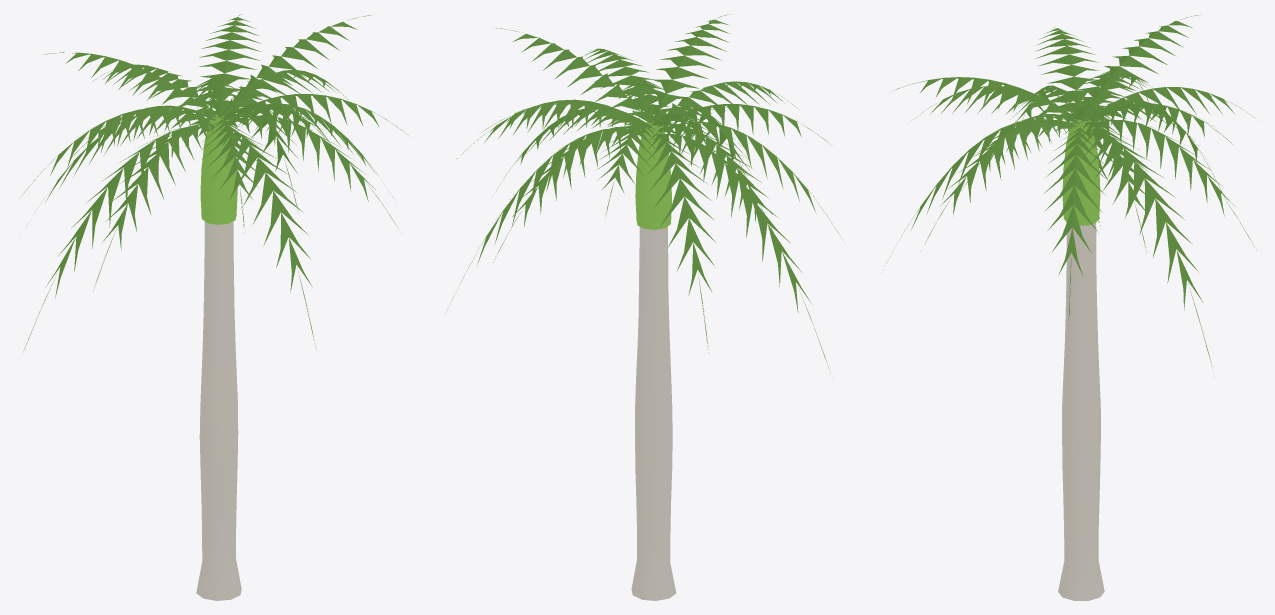
File: Blender_RoyalPalm_1.glb
3 views of the same model, side by side, from view 1: azimuth 30°, elevation 25°; view 2: azimuth 150°, elevation 25°; view 3: azimuth 270°, elevation 25° (orthographic).
Parts seen in each view (by area): view 1: Blender_RoyalPalm_1; view 2: Blender_RoyalPalm_1; view 3: Blender_RoyalPalm_1.
Part boxes in pixels (x1,y1,x2,y2): Blender_RoyalPalm_1: (20, 14, 408, 600); Blender_RoyalPalm_1: (447, 14, 840, 600); Blender_RoyalPalm_1: (881, 14, 1256, 600).
Bounding box in the file's own units: 14.82 × 20.68 × 13.38.
